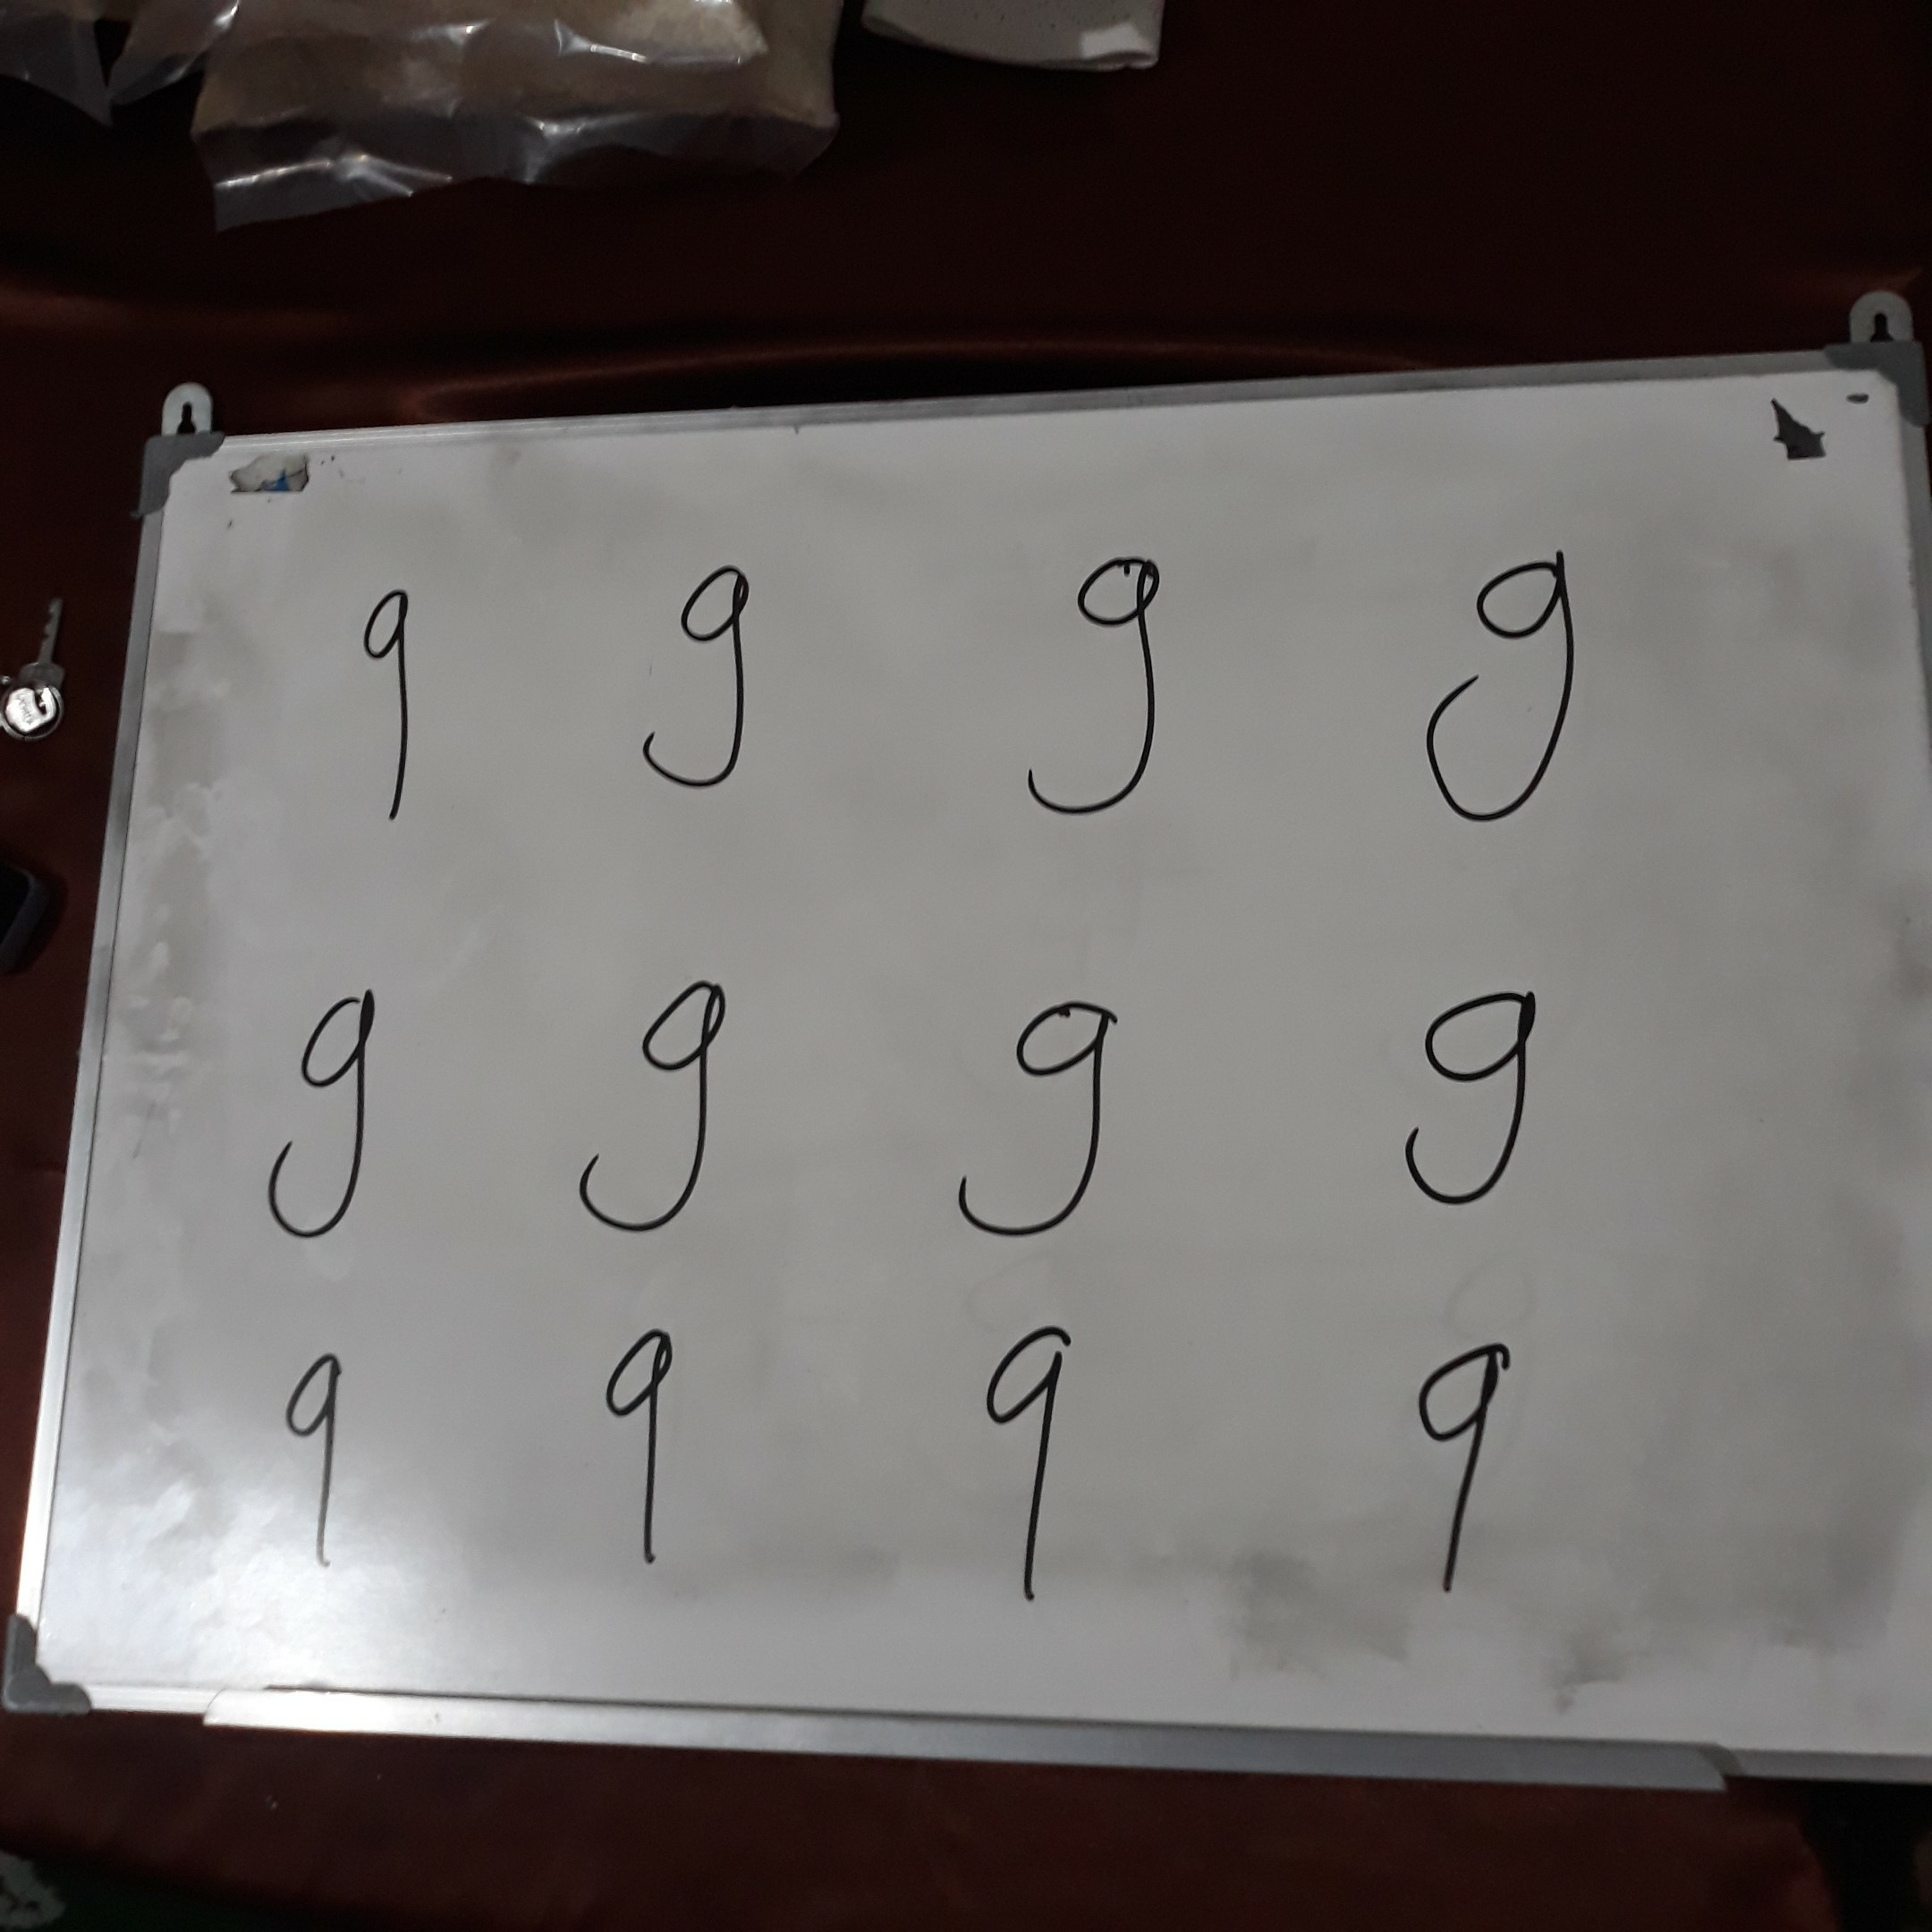num9: (1407, 539, 1597, 834), (552, 957, 742, 1250), (1001, 545, 1191, 825), (938, 968, 1130, 1240), (1367, 966, 1549, 1214), (241, 979, 395, 1253), (1397, 1322, 1534, 1599), (966, 1294, 1083, 1618), (628, 542, 774, 801), (591, 1313, 701, 1580), (337, 580, 440, 842), (258, 1337, 368, 1575)
